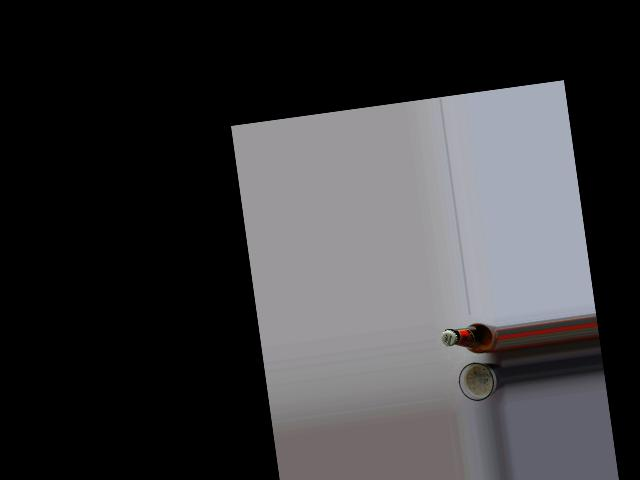beer: (440, 320, 501, 360)
